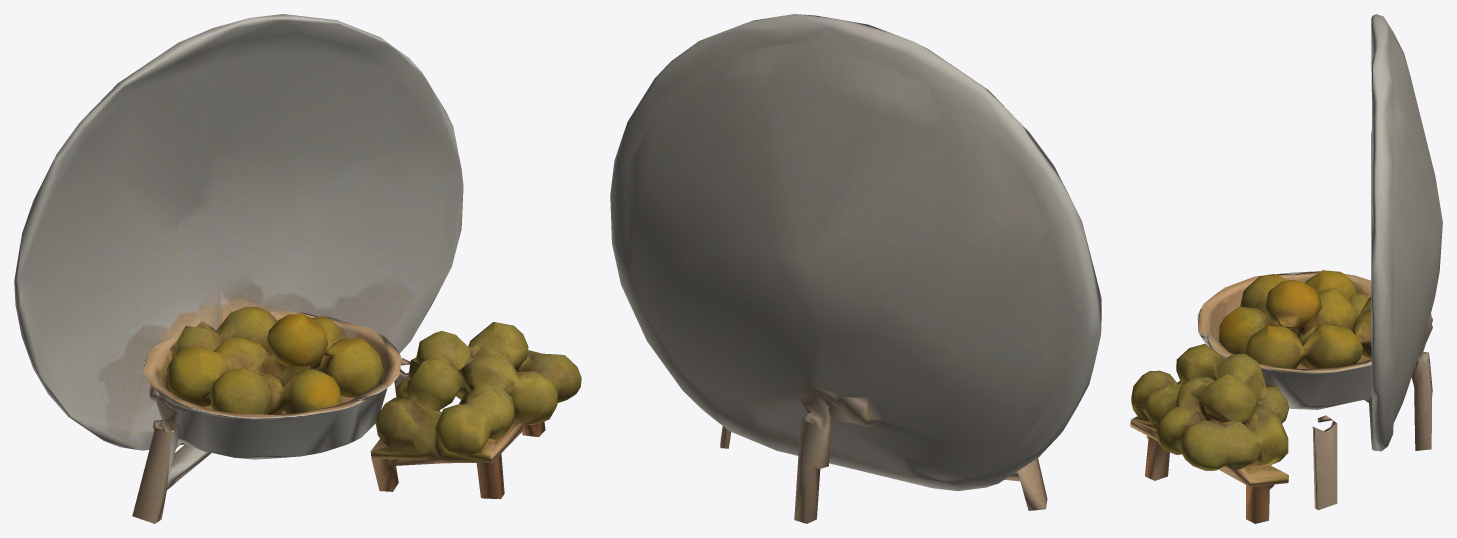
The model's file is orange_tray.glb.
3 renders of one model, left to right at view 1: azimuth 30°, elevation 25°; view 2: azimuth 150°, elevation 25°; view 3: azimuth 270°, elevation 25°, orthographic. The views are drawn at different scales.
Bounding box in the file's own units: 1.89 × 1.7 × 1.19.
1 material, 1 textured.
